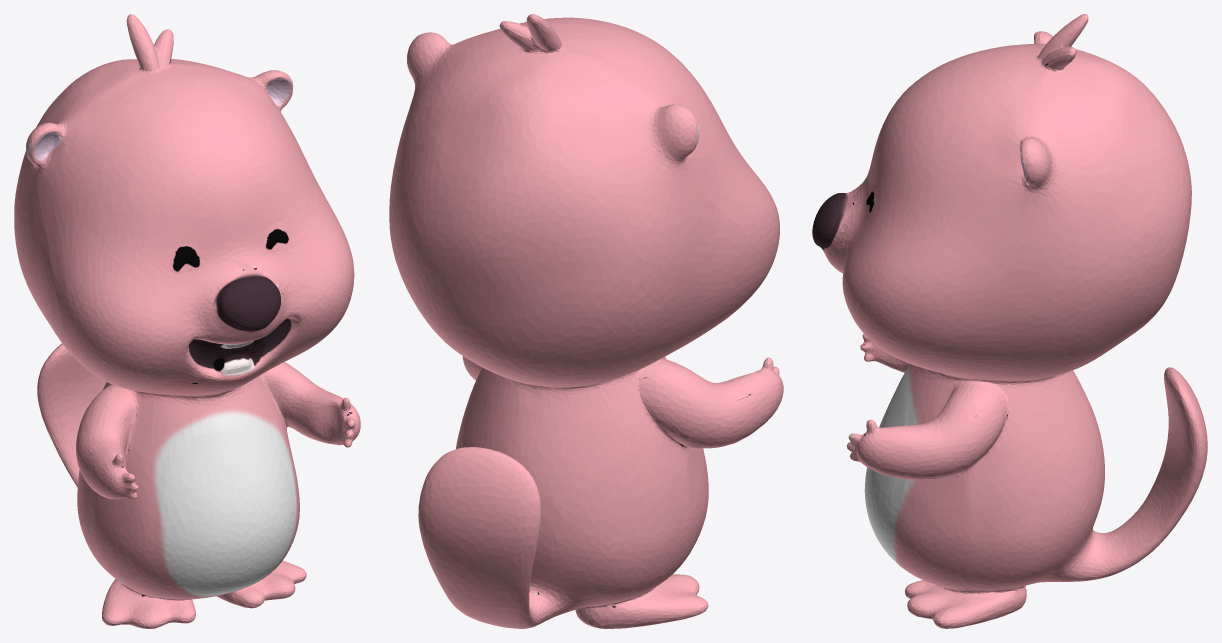
The picture shows the model from 3 angles, left to right: view 1: azimuth 30°, elevation 25°; view 2: azimuth 150°, elevation 25°; view 3: azimuth 270°, elevation 25°; orthographic projection. The views are drawn at different scales.
Parts seen in each view (by area): view 1: 卢比; view 2: 卢比; view 3: 卢比.
Boxes of the visible parts, x1=… form: 卢比: x1=14, y1=14, x2=360, y2=628; 卢比: x1=389, y1=14, x2=783, y2=628; 卢比: x1=812, y1=14, x2=1207, y2=628.
Bounding box in the file's own units: 2.43 × 4.68 × 2.95.
Materials: 1 (1 with a texture image).
